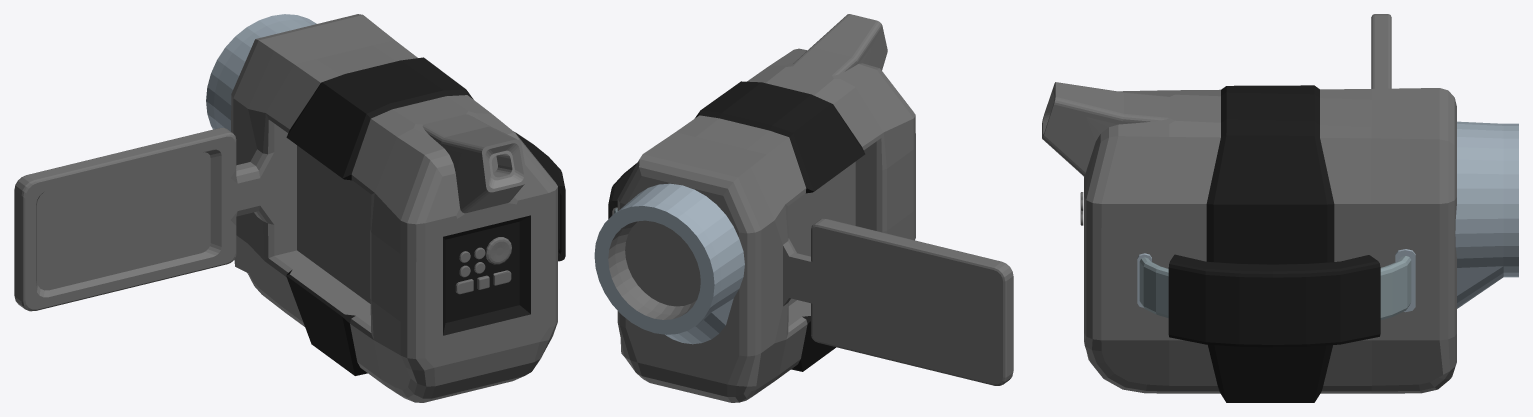
File: camera.glb
The picture shows the model from 3 angles, left to right: view 1: azimuth 30°, elevation 25°; view 2: azimuth 150°, elevation 25°; view 3: azimuth 270°, elevation 25°; orthographic projection. The views are drawn at different scales.
Parts seen in each view (by area): view 1: Camera; view 2: Camera; view 3: Camera.
Boxes of the visible parts, <box> form: Camera: <box>14,14,565,402</box>; Camera: <box>594,14,1013,402</box>; Camera: <box>1042,14,1518,402</box>.
Size of the model in its own units: 3.82 by 2.22 by 3.37.
